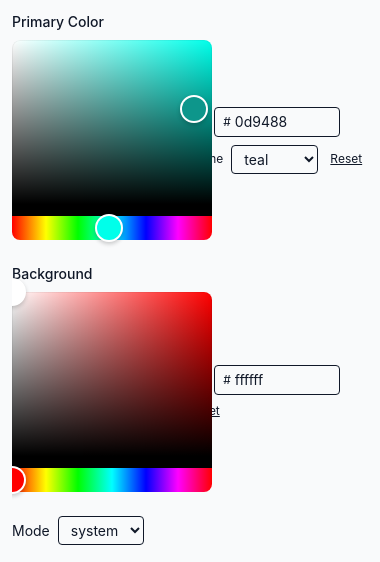
Test: ThemePicker › changes theme via select
This screenshot has width=380, height=562.
Select "rose" in the dropdown named "Theme select" at (275, 159), box [231,144,318,174]
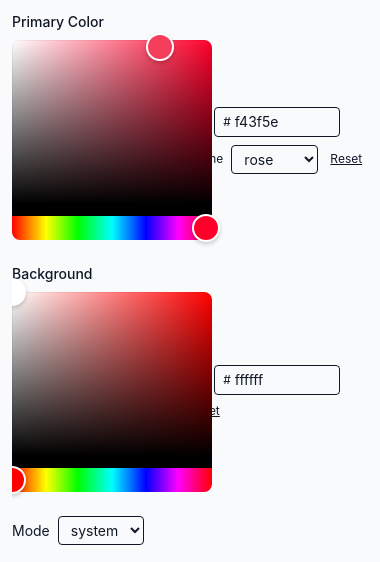
Result: the field named "Primary color hex" holds "f43f5e" at [235,112,331,132]
